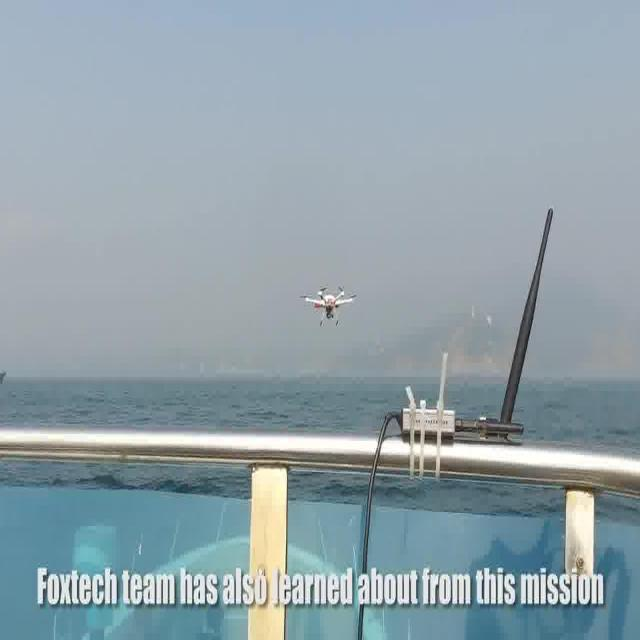drones: (300, 274, 359, 338)
